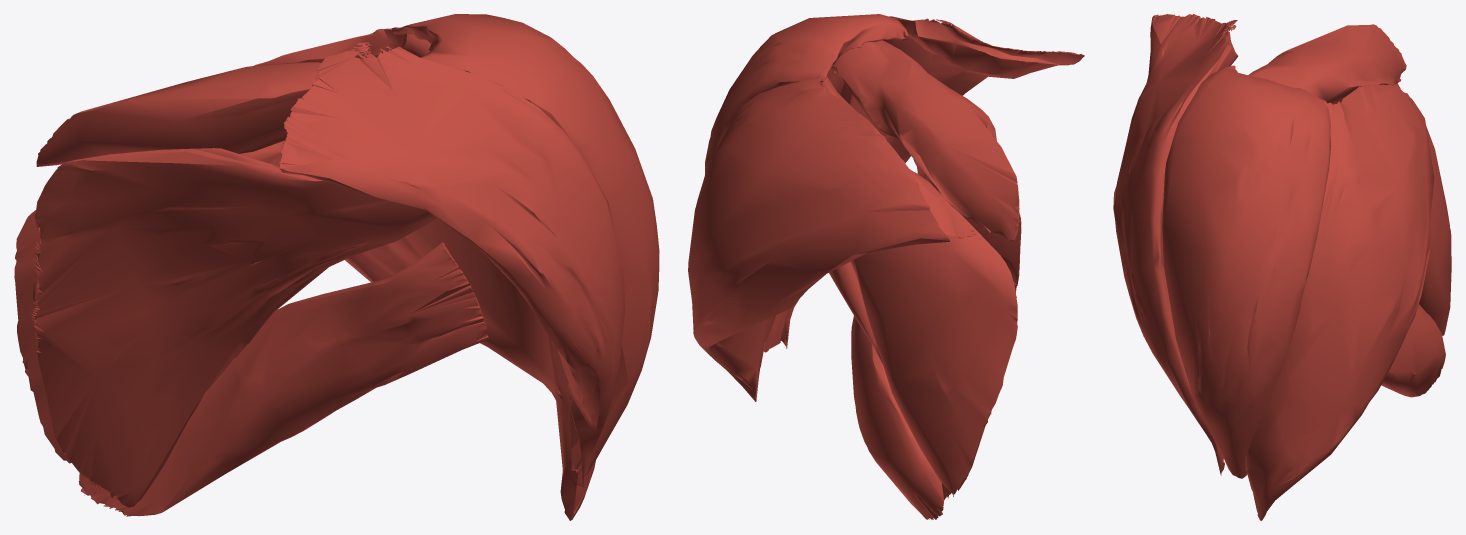
The model's file is shoulderm.glb.
3 views of the same model, side by side, from view 1: azimuth 30°, elevation 25°; view 2: azimuth 150°, elevation 25°; view 3: azimuth 270°, elevation 25° (orthographic). The views are drawn at different scales.
Parts seen in each view (by area): view 1: left subscapularis, clavicular part of left deltoid, left teres major, acromial part of left deltoid, left supraspinatus, spinal part of left deltoid, left infraspinatus muscle, left teres minor; view 2: spinal part of left deltoid, left infraspinatus muscle, left supraspinatus, acromial part of left deltoid, left teres major, clavicular part of left deltoid, left subscapularis, left teres minor; view 3: acromial part of left deltoid, spinal part of left deltoid, clavicular part of left deltoid, left supraspinatus, left teres major, left infraspinatus muscle.
Part boxes in pixels (x1=…): left subscapularis: x1=30, y1=148, x2=437, y2=507; clavicular part of left deltoid: x1=279, y1=42, x2=625, y2=490; left teres major: x1=78, y1=242, x2=488, y2=516; acromial part of left deltoid: x1=393, y1=14, x2=659, y2=474; left supraspinatus: x1=36, y1=62, x2=321, y2=166; spinal part of left deltoid: x1=254, y1=27, x2=595, y2=520; left infraspinatus muscle: x1=14, y1=140, x2=285, y2=463; left teres minor: x1=207, y1=267, x2=328, y2=390; spinal part of left deltoid: x1=688, y1=73, x2=975, y2=401; left infraspinatus muscle: x1=822, y1=77, x2=1017, y2=492; left supraspinatus: x1=831, y1=40, x2=1019, y2=240; acromial part of left deltoid: x1=705, y1=14, x2=908, y2=352; left teres major: x1=851, y1=316, x2=943, y2=519; clavicular part of left deltoid: x1=783, y1=16, x2=1084, y2=349; left subscapularis: x1=913, y1=88, x2=1021, y2=500; left teres minor: x1=829, y1=261, x2=882, y2=364; acromial part of left deltoid: x1=1162, y1=65, x2=1331, y2=478; spinal part of left deltoid: x1=1246, y1=84, x2=1434, y2=520; clavicular part of left deltoid: x1=1113, y1=14, x2=1237, y2=475; left supraspinatus: x1=1248, y1=24, x2=1406, y2=104; left teres major: x1=1381, y1=304, x2=1445, y2=397; left infraspinatus muscle: x1=1419, y1=126, x2=1451, y2=335.
Size of the model in its own units: 0.167 by 0.1676 by 0.125.
